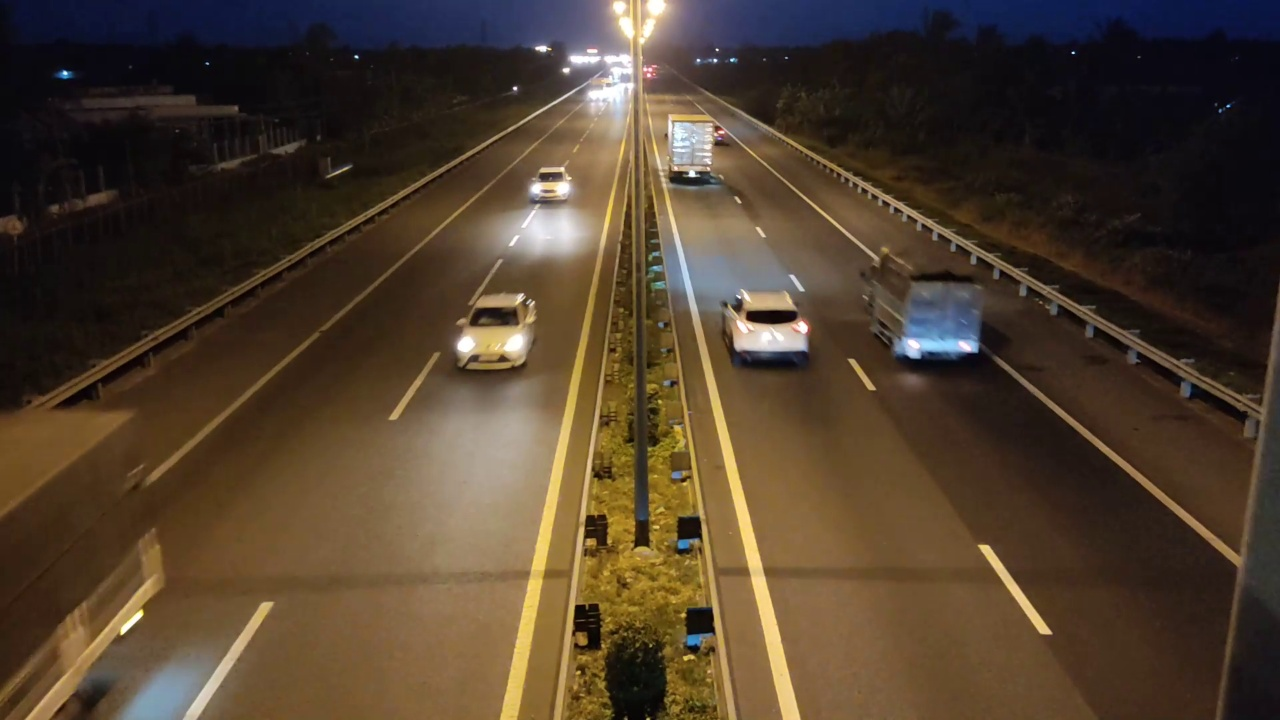car: (722, 279, 814, 370), (453, 291, 537, 371), (527, 165, 574, 204)
truck: (858, 247, 986, 365), (667, 114, 717, 185)
